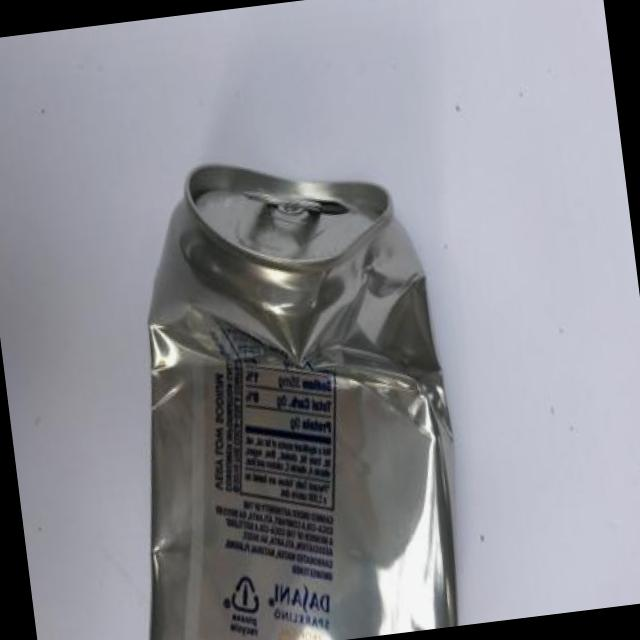nhom: (148, 164, 458, 640)
